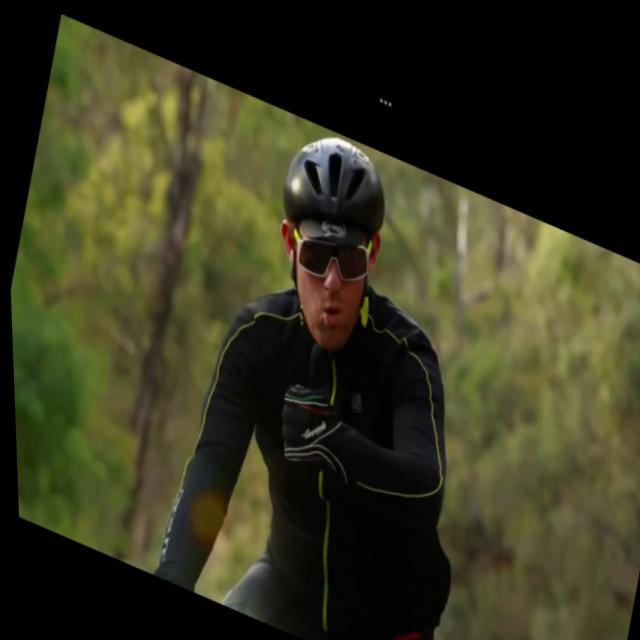Helmet: (277, 134, 389, 351)
